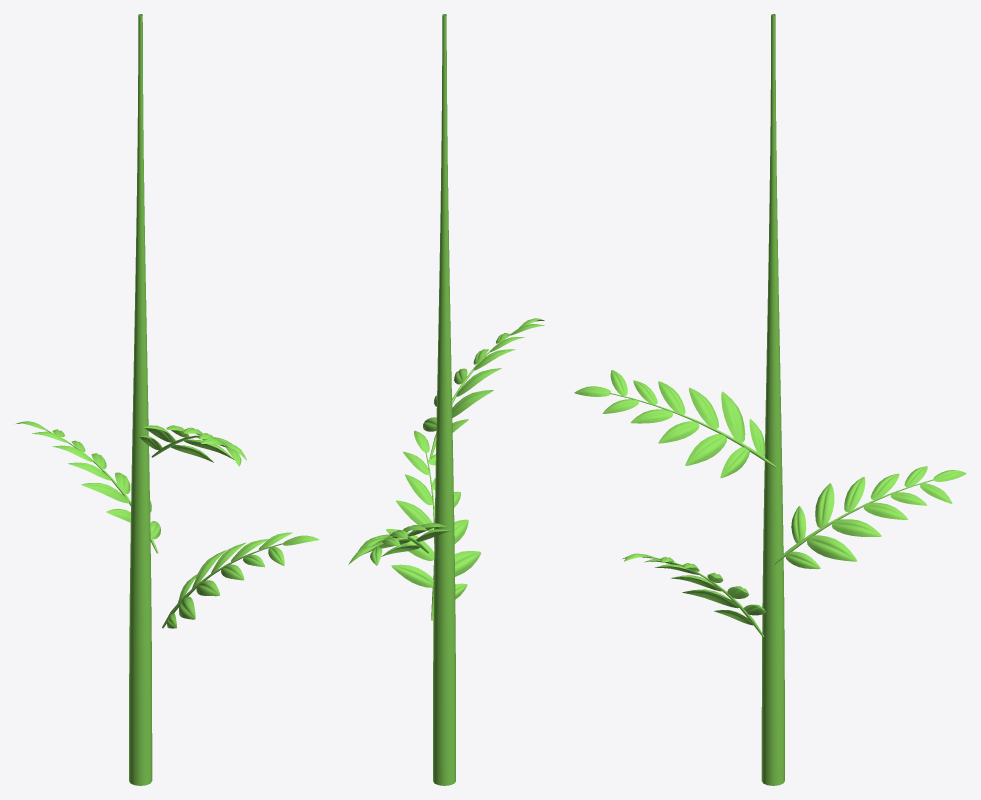
Rendered from germoglio.glb.
3 renders of one model, left to right at view 1: azimuth 30°, elevation 25°; view 2: azimuth 150°, elevation 25°; view 3: azimuth 270°, elevation 25°, orthographic.
Visible parts, largest first — view 1: Vert.002, Vert.003, Vert.004, Vert.005; view 2: Vert.002, Vert.003, Vert.005, Vert.004; view 3: Vert.002, Vert.005, Vert.004, Vert.003.
Boxes of the visible parts, box(x1,y1,x2,y2) form: Vert.002: box(129, 14, 152, 785); Vert.003: box(162, 532, 319, 628); Vert.004: box(14, 421, 160, 553); Vert.005: box(139, 425, 246, 466); Vert.002: box(433, 14, 455, 785); Vert.003: box(386, 430, 480, 620); Vert.005: box(423, 318, 544, 458); Vert.004: box(348, 523, 452, 565); Vert.002: box(761, 14, 784, 785); Vert.005: box(574, 370, 776, 478); Vert.004: box(772, 466, 966, 569); Vert.003: box(622, 553, 765, 637).
Size of what is drawn, in the model's own units: 0.1897 by 1.02 by 0.4714.
